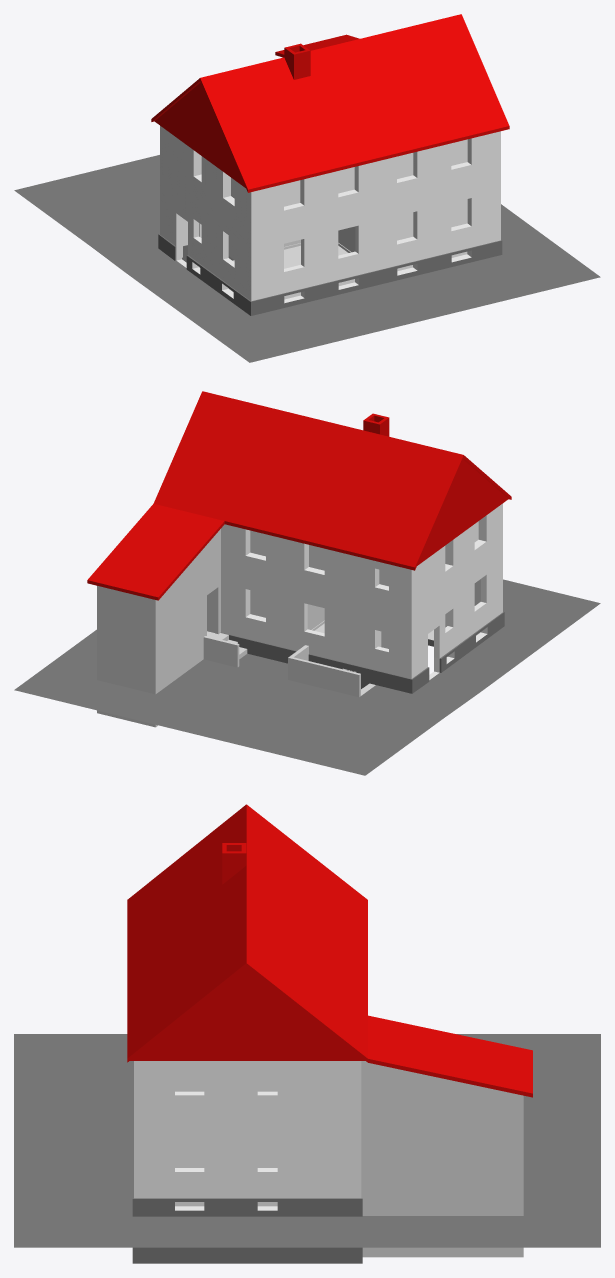
File: Haus.fbx
3 renders of one model, top to bottom at view 1: azimuth 30°, elevation 25°; view 2: azimuth 150°, elevation 25°; view 3: azimuth 270°, elevation 25°, orthographic. The views are drawn at different scales.
Parts seen in each view (by area): view 1: Haus, Dach, Haus_boden; view 2: Dach, Haus_boden, Haus, Schuppen, Kellerstiege, Kellerstiege.001, Wohnung; view 3: Dach, Haus_boden, Haus, Schuppen.
Boxes of the visible parts, x1=… form: Haus: x1=158, y1=126, x2=502, y2=315; Dach: x1=151, y1=14, x2=509, y2=192; Haus_boden: x1=14, y1=155, x2=600, y2=362; Dach: x1=87, y1=391, x2=511, y2=600; Haus_boden: x1=14, y1=579, x2=600, y2=775; Haus: x1=220, y1=503, x2=504, y2=693; Schuppen: x1=97, y1=529, x2=220, y2=727; Kellerstiege: x1=288, y1=645, x2=360, y2=697; Kellerstiege.001: x1=203, y1=636, x2=239, y2=667; Wohnung: x1=307, y1=579, x2=480, y2=629; Dach: x1=127, y1=804, x2=532, y2=1097; Haus_boden: x1=14, y1=1034, x2=600, y2=1247; Haus: x1=132, y1=1061, x2=362, y2=1263; Schuppen: x1=361, y1=1061, x2=523, y2=1257.
Bounding box in the file's own units: 1558 × 1097 × 1808.
